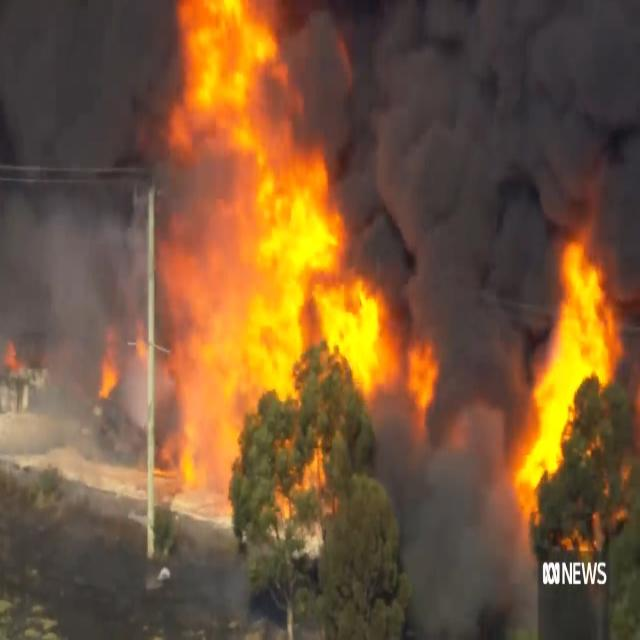fire: (166, 1, 414, 498), (507, 179, 618, 523)
